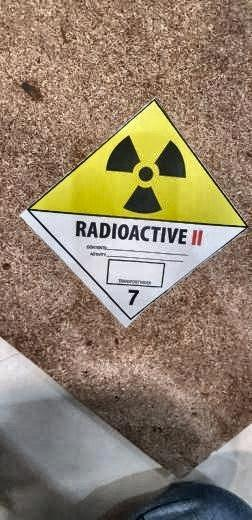radioactive: (19, 99, 248, 327)
